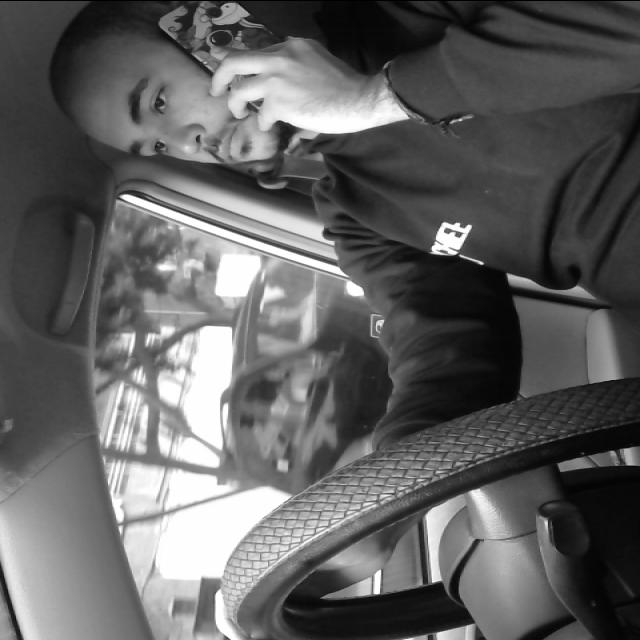mobile use: (152, 0, 316, 110)
